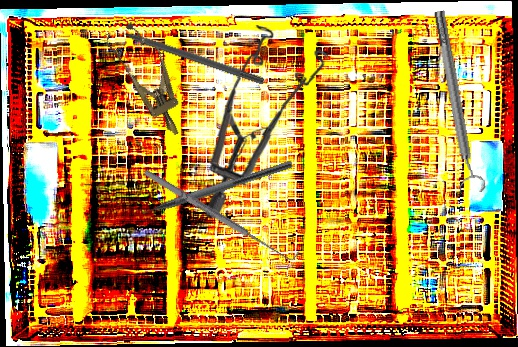Chopper: (125, 148, 295, 224)
Fixation Ring: (425, 8, 488, 196)
Hook Surgical: (141, 161, 301, 268), (106, 22, 266, 86)
Speculum: (199, 22, 334, 219), (101, 16, 197, 145)
